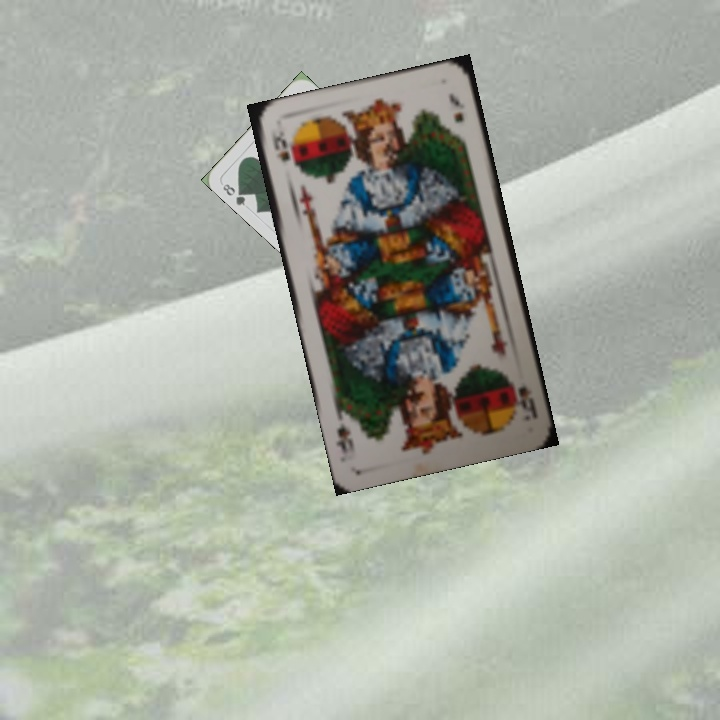G8: (219, 180, 249, 208)
SK: (508, 377, 540, 422), (267, 125, 293, 164)
